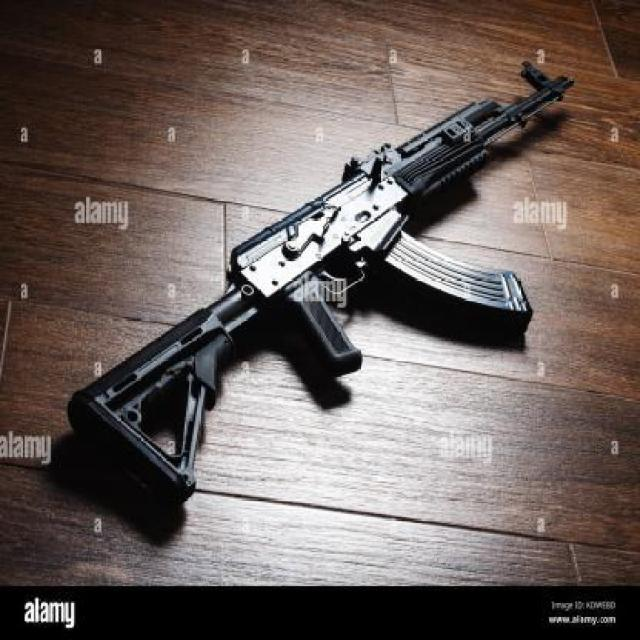weapon: (63, 52, 582, 517)
